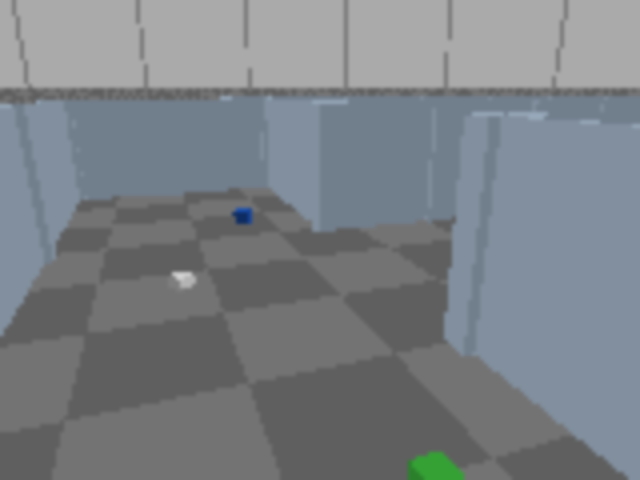puck: (407, 449, 465, 478), (167, 270, 195, 292), (234, 208, 253, 225)
